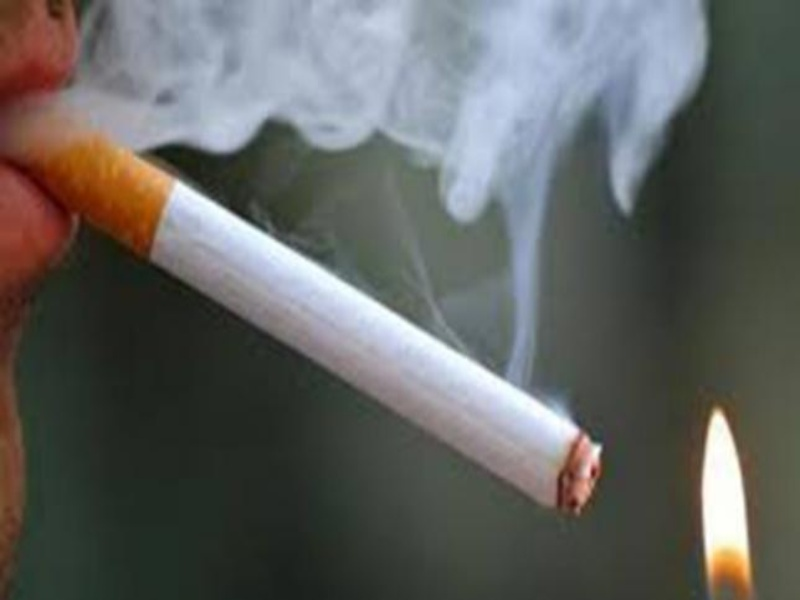smoke: (81, 1, 707, 199)
